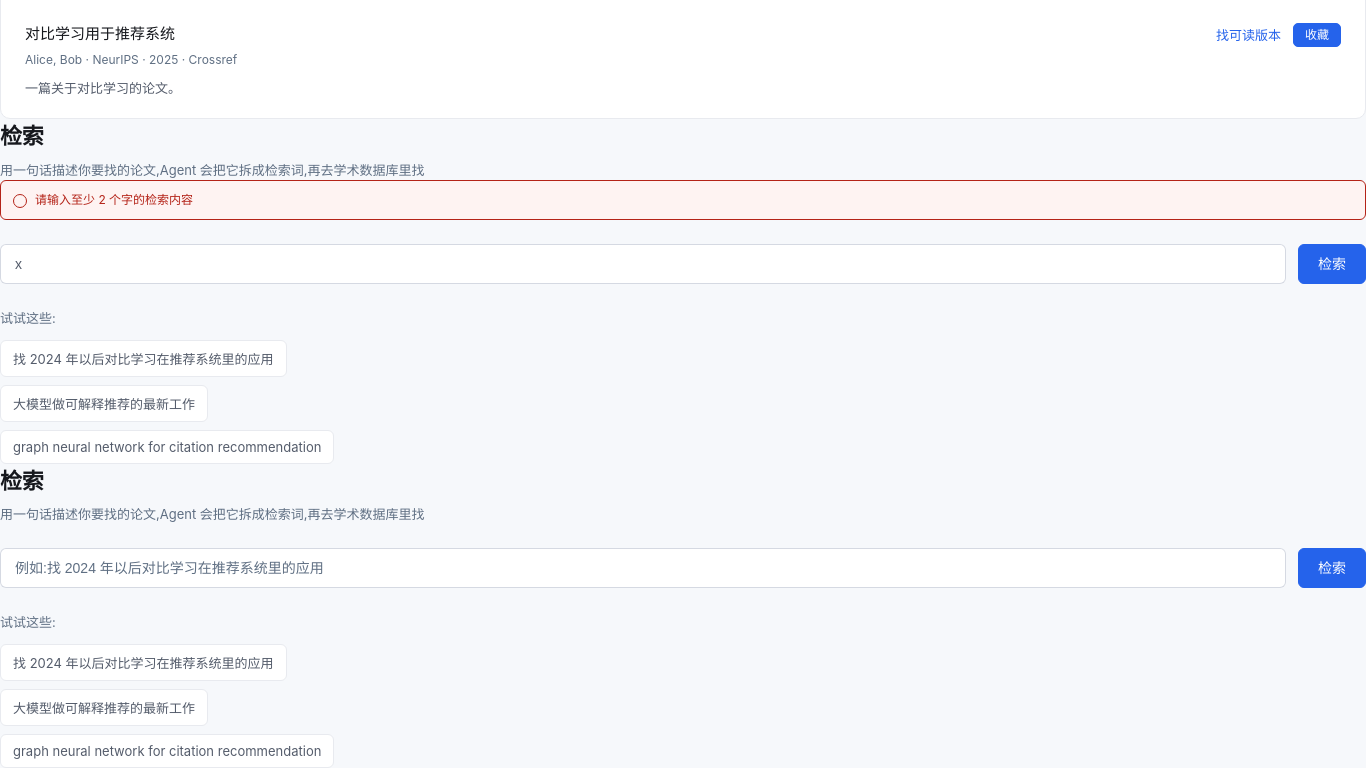
Scenario: SearchView › 显示 Agent 的拆解,让"为什么搜出来的是这些"可见
(page scrolled)
Type "对比学习" into the field with placeholder "例如:找 2024 年以后对比学习在推荐系统里的应用" at x=643, y=568, box [15,549,1271,587]
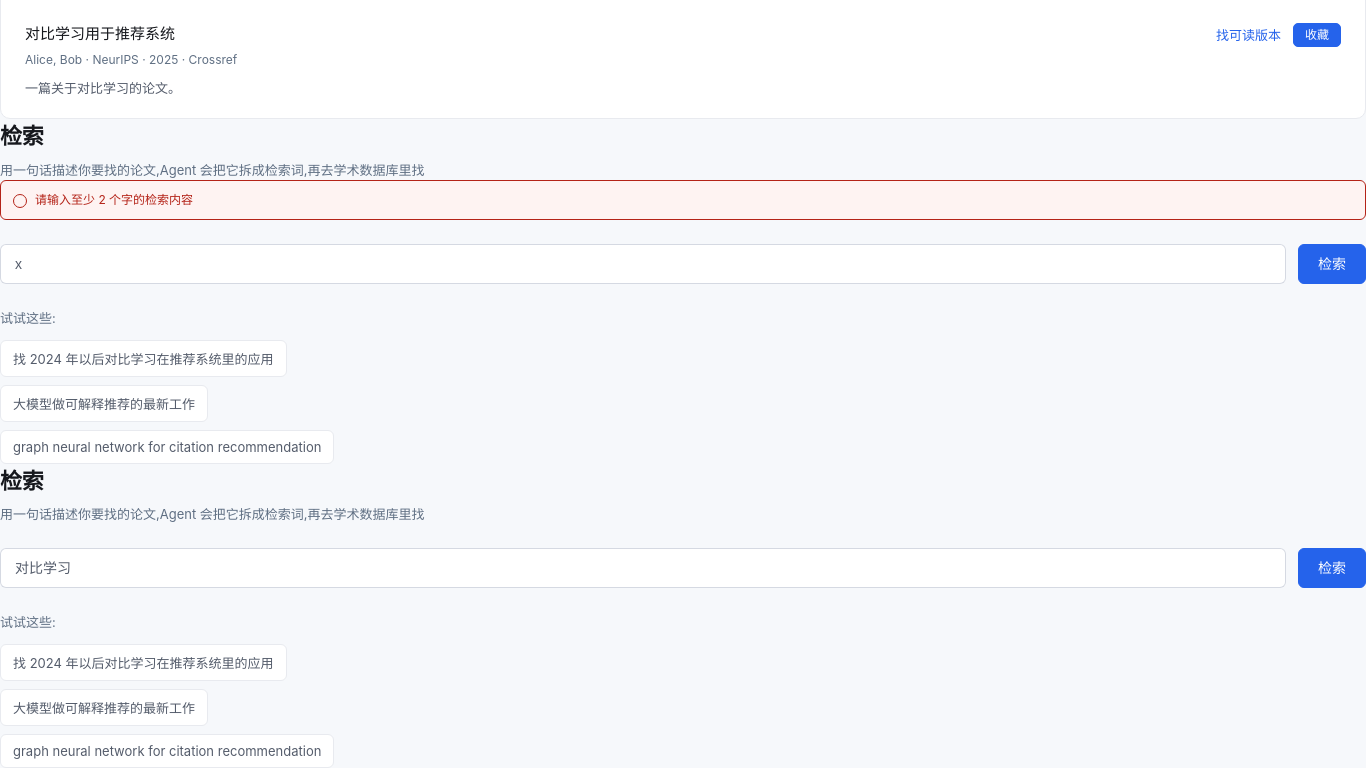
Submit the 2nd form "检索", box [0,548,1365,588]
(page scrolled)
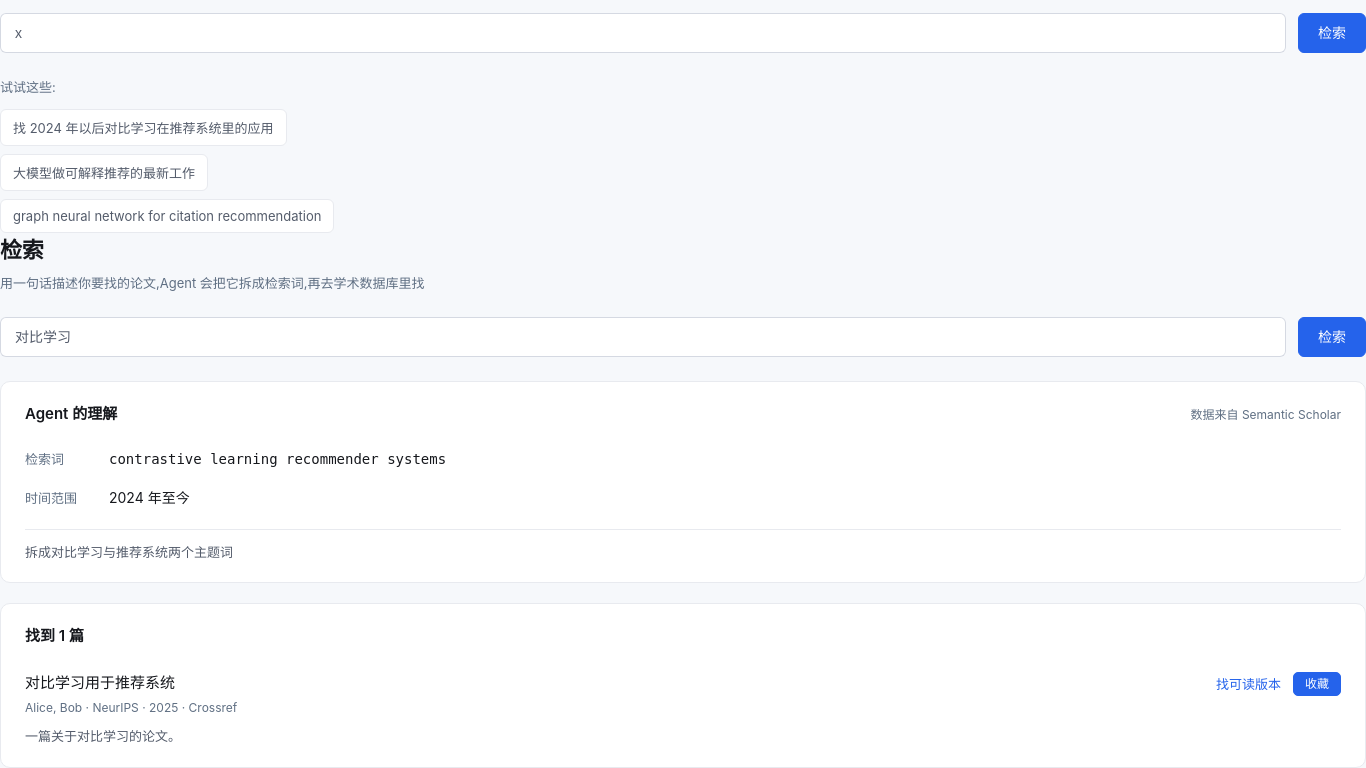
Expected: the text "数据来自 Semantic Scholar" is shown, [1190,406,1341,425]
Now the text "contrastive learning recommender systems" is shown, box [109,449,446,471]
Now the text "拆成对比学习与推荐系统两个主题词" is shown, box [25,529,1341,562]
